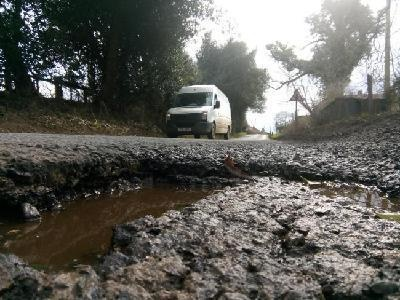pothole: (0, 154, 400, 283)
